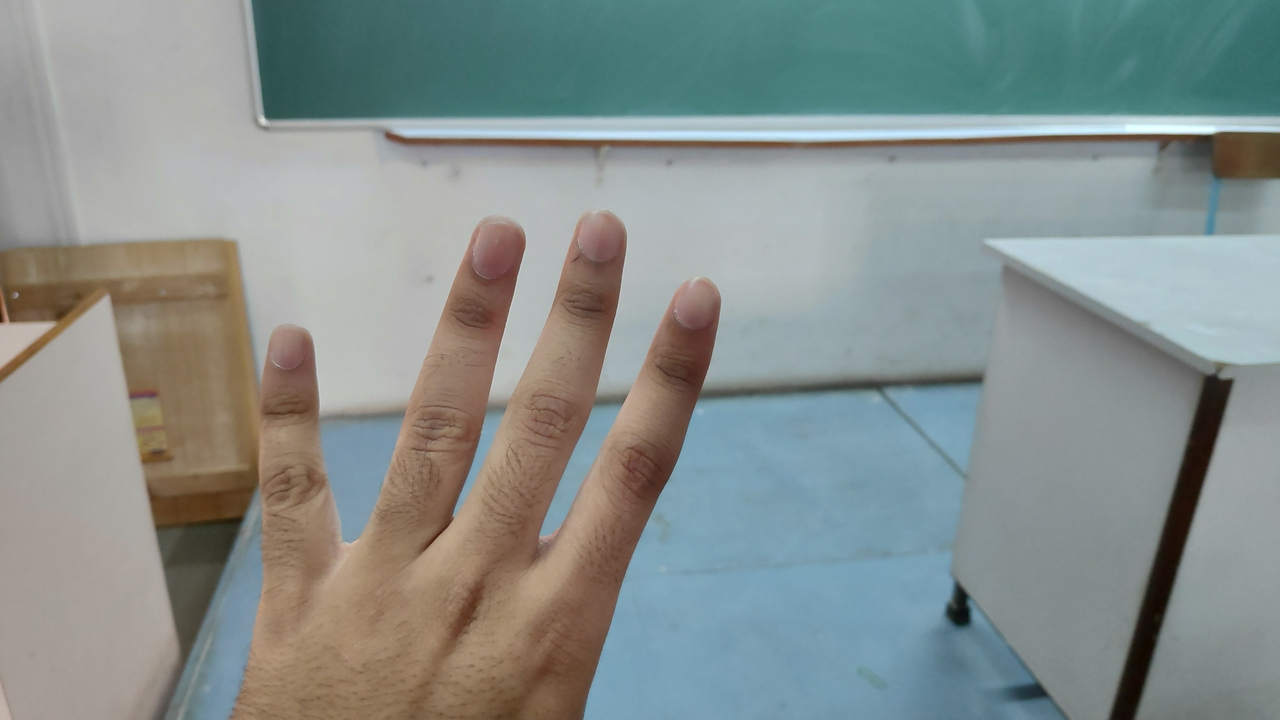fingertip: (450, 210, 532, 280), (658, 270, 726, 336), (562, 204, 632, 268), (256, 320, 316, 378)
